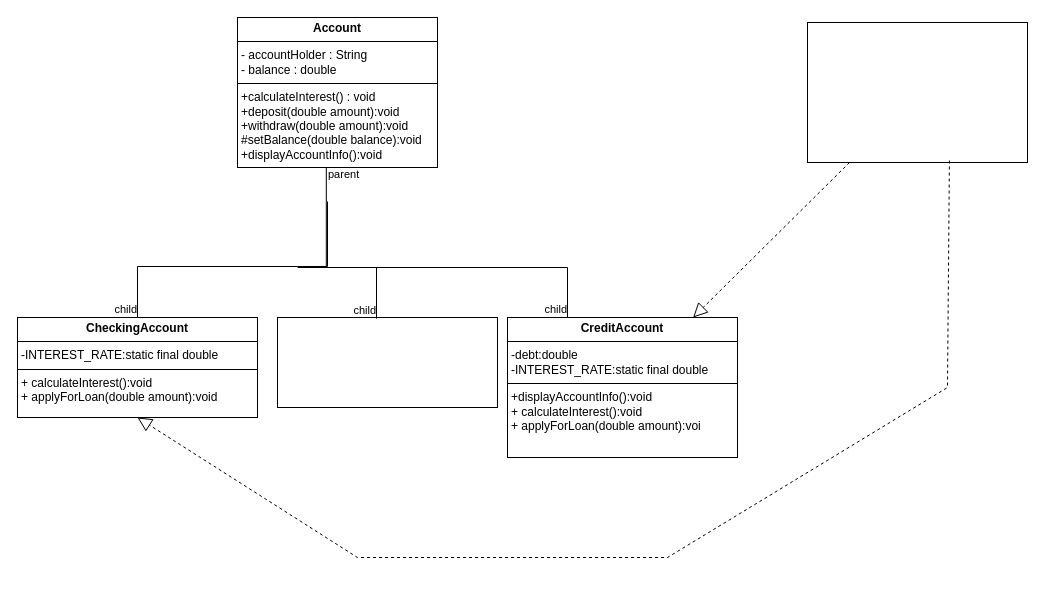
The diagram is 1045 pixels wide and 589 high, and some of its shapes have lost their labels. The centre of each missing label's shape, as x and y in pixels:
"<<Interface>> Lonable +applyForLoan(amount : double) : void" belongs at (x=917, y=92).
"SavingsAccount -INTEREST_RATE: static final double + calculateInterest():void" belongs at (x=387, y=362).
